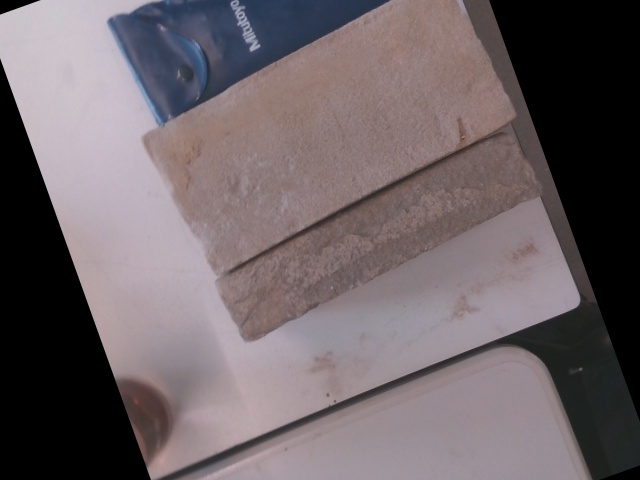brick: (143, 0, 513, 271)
